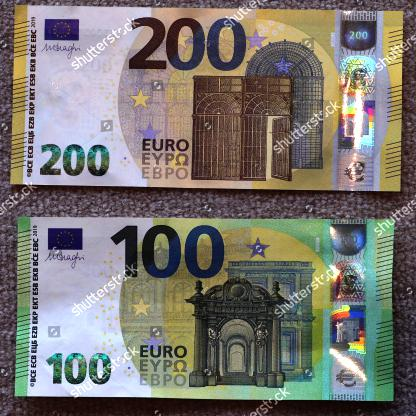euro_banknote: (13, 9, 403, 189), (16, 217, 396, 400)
